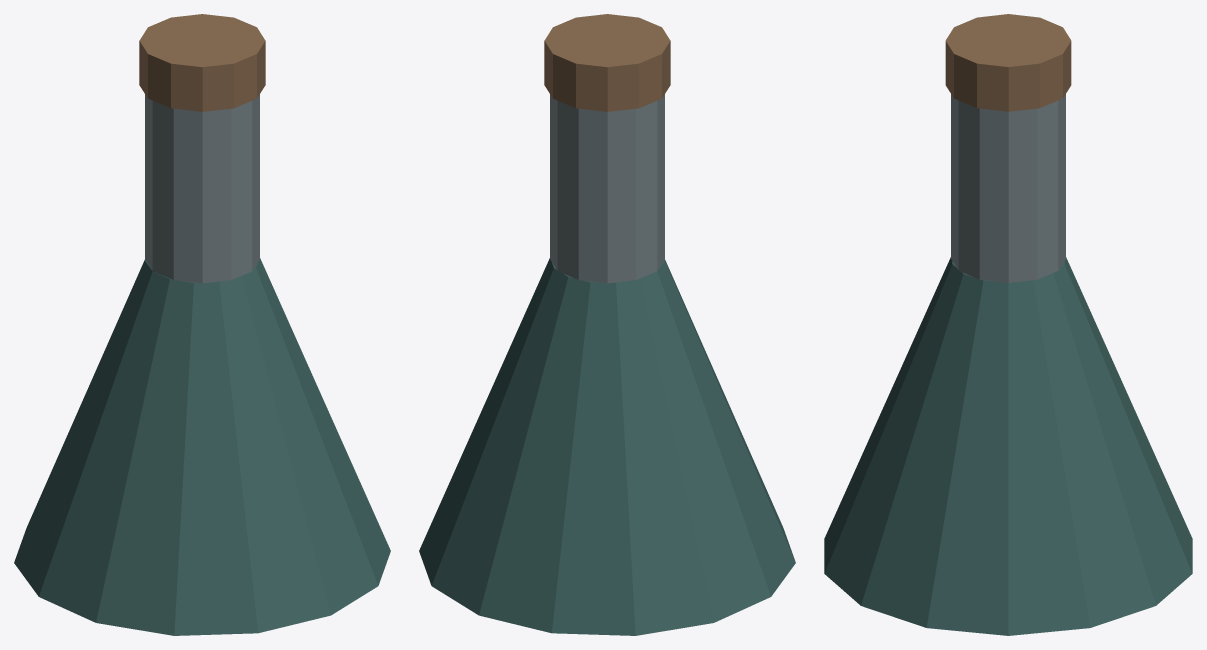
The model's file is L-13_sample_flask.glb.
3 renders of one model, left to right at view 1: azimuth 30°, elevation 25°; view 2: azimuth 150°, elevation 25°; view 3: azimuth 270°, elevation 25°, orthographic.
Parts seen in each view (by area): view 1: L-13_sample_flask; view 2: L-13_sample_flask; view 3: L-13_sample_flask.
Part boxes in pixels (<box>): L-13_sample_flask: <box>14,14,390,635</box>; L-13_sample_flask: <box>419,14,795,635</box>; L-13_sample_flask: <box>824,14,1192,635</box>.
Bounding box in the file's own units: 0.138 × 0.208 × 0.1345.
